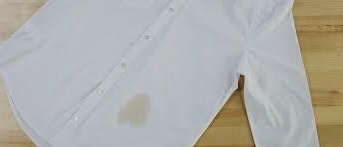coffee: (117, 93, 153, 127)
